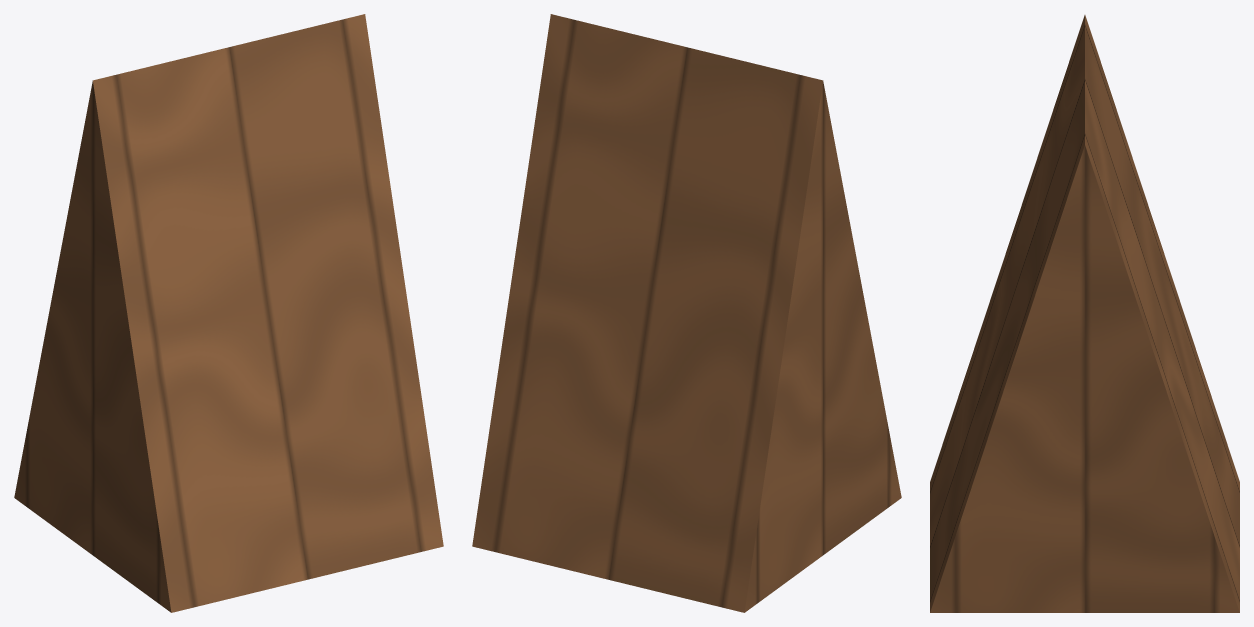
The model's file is menu_board.gltf.
3 renders of one model, left to right at view 1: azimuth 30°, elevation 25°; view 2: azimuth 150°, elevation 25°; view 3: azimuth 270°, elevation 25°, orthographic.
Parts seen in each view (by area): view 1: menu_board_mesh; view 2: menu_board_mesh; view 3: menu_board_mesh.
Boxes of the visible parts, x1,y1,x2,y2 form: menu_board_mesh: [14, 14, 443, 612]; menu_board_mesh: [472, 14, 901, 612]; menu_board_mesh: [930, 15, 1239, 612].
Size of the model in its own units: 0.6 by 1 by 0.6.
Materials: 2 (1 with a texture image).
